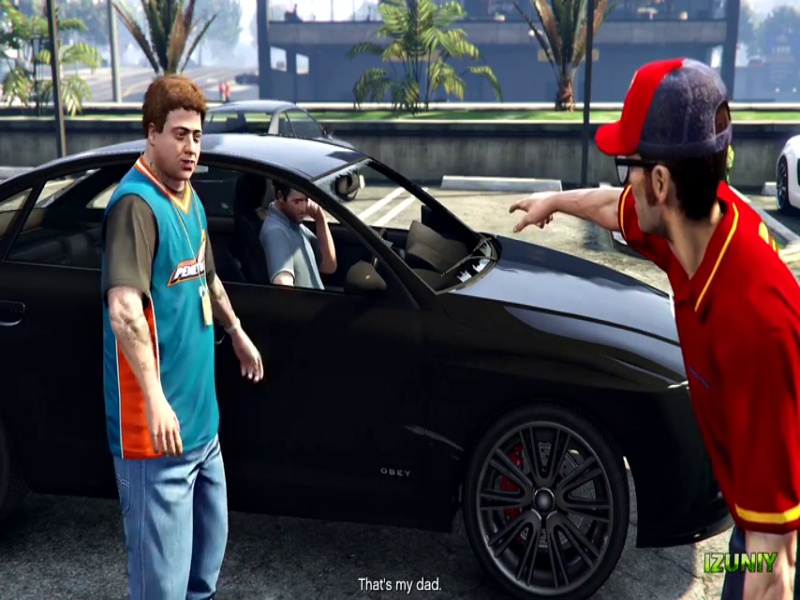human: (483, 57, 799, 588)
